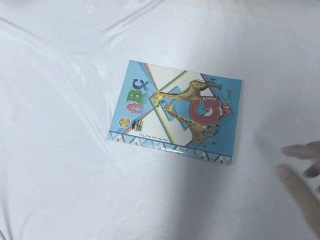book: (102, 57, 247, 169)
